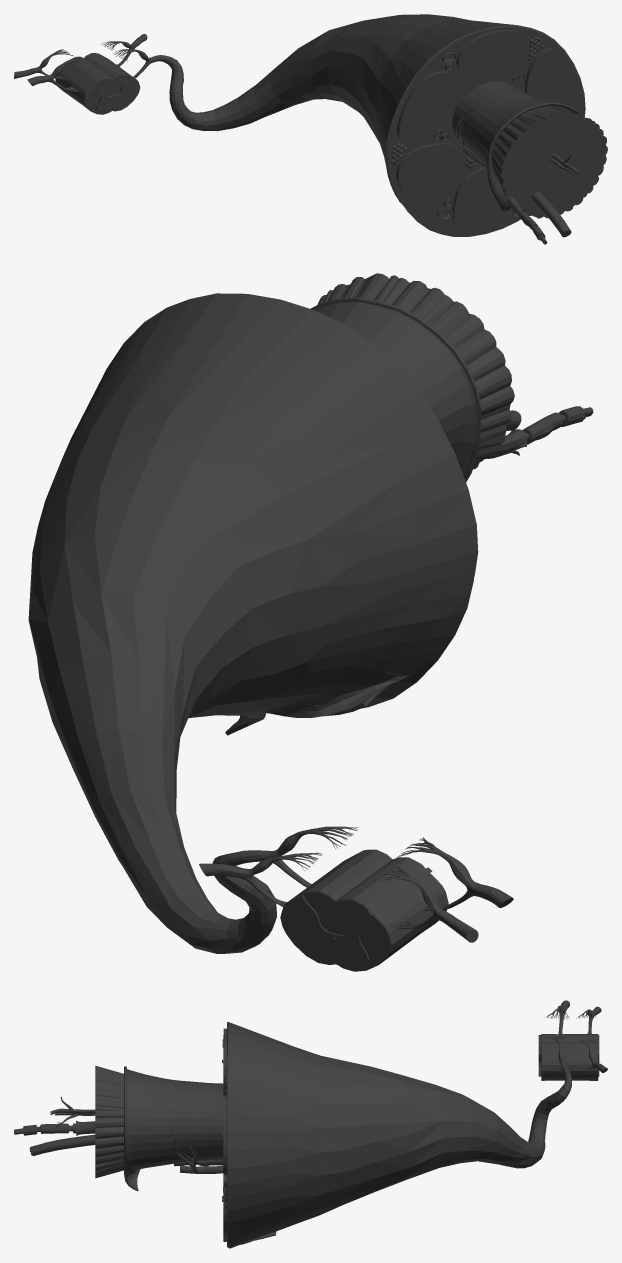
Rendered from sharedassets85.glb.
3 renders of one model, top to bottom at view 1: azimuth 30°, elevation 25°; view 2: azimuth 150°, elevation 25°; view 3: azimuth 270°, elevation 25°, orthographic. The views are drawn at different scales.
Visible parts, largest first — view 1: 0018_Nerve fibers_peripheral_nerve_and_spinal, 0020_Outer _epifascicular_ epineurium_periphe, 0005_Perineurium_peripheral_nerve_and_spinal_, 0016_Inner _interfascicular_ epineurium_perip, 0010_White matter_peripheral_nerve_and_spinal, 0008_Perineural septa_peripheral_nerve_and_sp, 0017_Spinal nerves_peripheral_nerve_and_spina, 0004_Extrinsic veins_peripheral_nerve_and_spi, 0023_Endoneurium_peripheral_nerve_and_spinal_, 0015_Adipose tissue_peripheral_nerve_and_spin, 0000_Extrinsic arteries_peripheral_nerve_and_, 0011_Gray matter_peripheral_nerve_and_spinal_ (+2 smaller); view 2: 0020_Outer _epifascicular_ epineurium_periphe, 0010_White matter_peripheral_nerve_and_spinal, 0005_Perineurium_peripheral_nerve_and_spinal_, 0018_Nerve fibers_peripheral_nerve_and_spinal, 0017_Spinal nerves_peripheral_nerve_and_spina, 0022_Dorsal roots_peripheral_nerve_and_spinal, 0011_Gray matter_peripheral_nerve_and_spinal_, 0003_Dorsal root ganglia_peripheral_nerve_and, 0016_Inner _interfascicular_ epineurium_perip, 0007_Myelin sheaths_peripheral_nerve_and_spin, 0012_Ventral roots_peripheral_nerve_and_spina; view 3: 0020_Outer _epifascicular_ epineurium_periphe, 0005_Perineurium_peripheral_nerve_and_spinal_, 0018_Nerve fibers_peripheral_nerve_and_spinal, 0010_White matter_peripheral_nerve_and_spinal, 0023_Endoneurium_peripheral_nerve_and_spinal_, 0004_Extrinsic veins_peripheral_nerve_and_spi, 0007_Myelin sheaths_peripheral_nerve_and_spin, 0022_Dorsal roots_peripheral_nerve_and_spinal, 0017_Spinal nerves_peripheral_nerve_and_spina.
Part boxes in pixels (box(x1,y1,x2,y2)): 0018_Nerve fibers_peripheral_nerve_and_spinal: box(398, 31, 607, 232); 0020_Outer _epifascicular_ epineurium_periphe: box(164, 14, 585, 204); 0005_Perineurium_peripheral_nerve_and_spinal_: box(396, 29, 583, 233); 0016_Inner _interfascicular_ epineurium_perip: box(387, 27, 584, 236); 0010_White matter_peripheral_nerve_and_spinal: box(55, 53, 140, 114); 0008_Perineural septa_peripheral_nerve_and_sp: box(398, 31, 585, 226); 0017_Spinal nerves_peripheral_nerve_and_spina: box(14, 34, 165, 85); 0004_Extrinsic veins_peripheral_nerve_and_spi: box(433, 51, 524, 220); 0023_Endoneurium_peripheral_nerve_and_spinal_: box(508, 192, 564, 228); 0015_Adipose tissue_peripheral_nerve_and_spin: box(391, 36, 543, 168); 0000_Extrinsic arteries_peripheral_nerve_and_: box(440, 62, 518, 208); 0011_Gray matter_peripheral_nerve_and_spinal_: box(94, 76, 131, 110); 0020_Outer _epifascicular_ epineurium_periphe: box(28, 293, 478, 953); 0010_White matter_peripheral_nerve_and_spinal: box(280, 849, 448, 971); 0005_Perineurium_peripheral_nerve_and_spinal_: box(310, 297, 481, 482); 0018_Nerve fibers_peripheral_nerve_and_spinal: box(317, 273, 514, 469); 0017_Spinal nerves_peripheral_nerve_and_spina: box(199, 850, 513, 942); 0022_Dorsal roots_peripheral_nerve_and_spinal: box(273, 826, 449, 886); 0011_Gray matter_peripheral_nerve_and_spinal_: box(298, 867, 432, 962); 0003_Dorsal root ganglia_peripheral_nerve_and: box(250, 832, 473, 911); 0016_Inner _interfascicular_ epineurium_perip: box(361, 579, 473, 708); 0007_Myelin sheaths_peripheral_nerve_and_spin: box(514, 406, 584, 450); 0012_Ventral roots_peripheral_nerve_and_spina: box(250, 861, 470, 928); 0020_Outer _epifascicular_ epineurium_periphe: box(227, 1022, 571, 1248); 0005_Perineurium_peripheral_nerve_and_spinal_: box(124, 1034, 226, 1238); 0018_Nerve fibers_peripheral_nerve_and_spinal: box(95, 1035, 223, 1238); 0010_White matter_peripheral_nerve_and_spinal: box(541, 1034, 598, 1080); 0023_Endoneurium_peripheral_nerve_and_spinal_: box(44, 1121, 95, 1152); 0004_Extrinsic veins_peripheral_nerve_and_spi: box(170, 1028, 226, 1241); 0007_Myelin sheaths_peripheral_nerve_and_spin: box(23, 1123, 76, 1135); 0022_Dorsal roots_peripheral_nerve_and_spinal: box(545, 1006, 595, 1048); 0017_Spinal nerves_peripheral_nerve_and_spina: box(559, 1000, 607, 1078).
Bounding box in the file's own units: 0.5635 × 0.2881 × 0.7562.
1 material, 1 textured.
